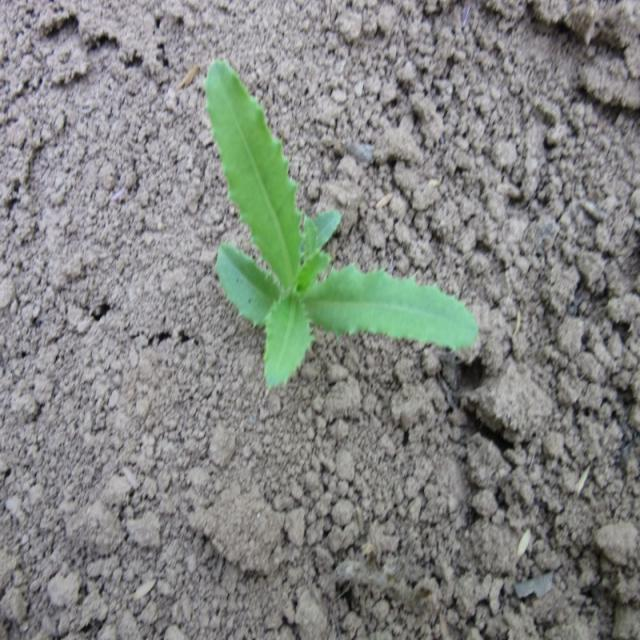cs: (203, 54, 484, 401)
